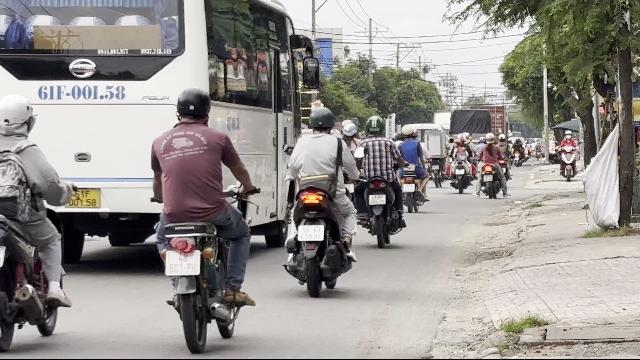helmet: (0, 94, 36, 141), (172, 86, 212, 124), (308, 106, 334, 132), (363, 115, 385, 136)
licenseplate: (166, 250, 200, 276), (298, 226, 324, 241), (369, 195, 385, 205)
motorcyclist: (140, 84, 260, 352), (0, 94, 84, 354), (281, 105, 359, 295), (354, 114, 406, 244)
